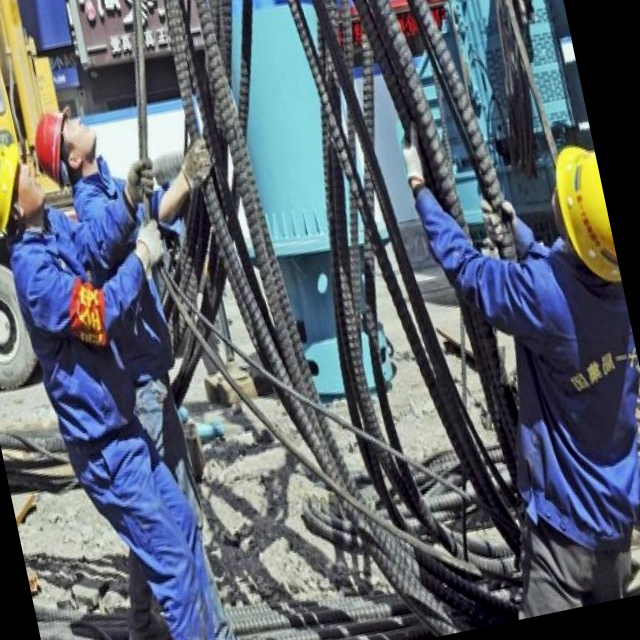Con_Casco: (0, 129, 46, 234)
